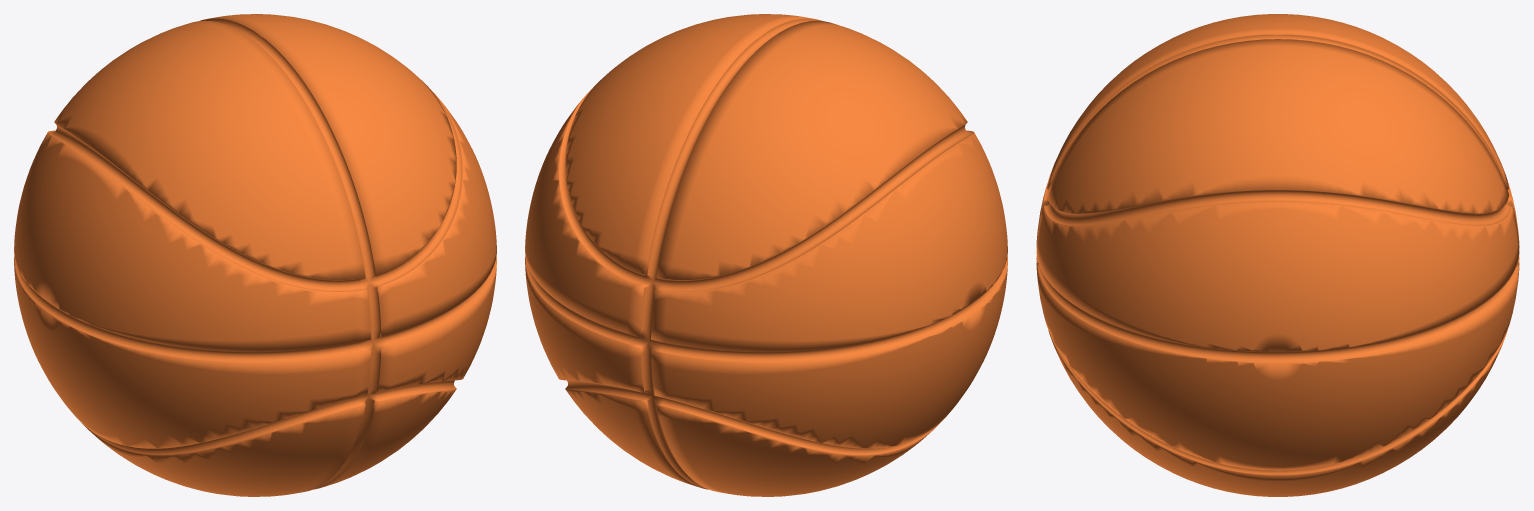
Rendered from basketball2.dae.
3 renders of one model, left to right at view 1: azimuth 30°, elevation 25°; view 2: azimuth 150°, elevation 25°; view 3: azimuth 270°, elevation 25°, orthographic.
Visible parts, largest first — view 1: basketball_robocon; view 2: basketball_robocon; view 3: basketball_robocon.
Boxes of the visible parts, x1,y1,x2,y2 form: basketball_robocon: (14,14,496,496); basketball_robocon: (525,14,1007,496); basketball_robocon: (1036,14,1519,496).
Bounding box in the file's own units: 0.2398 × 0.2399 × 0.2399.
